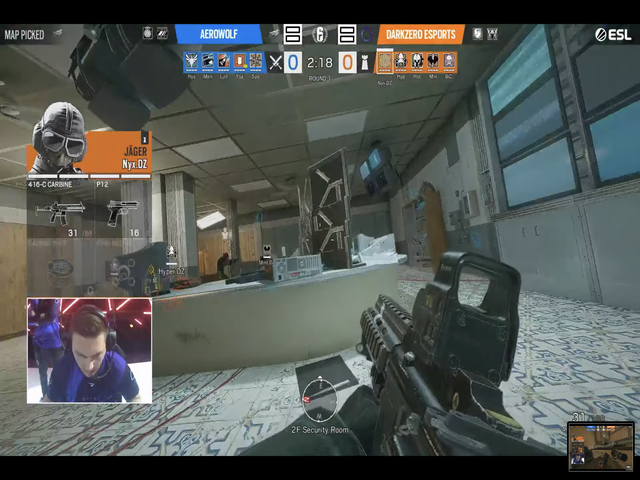0_blue: (284, 50, 302, 74)
